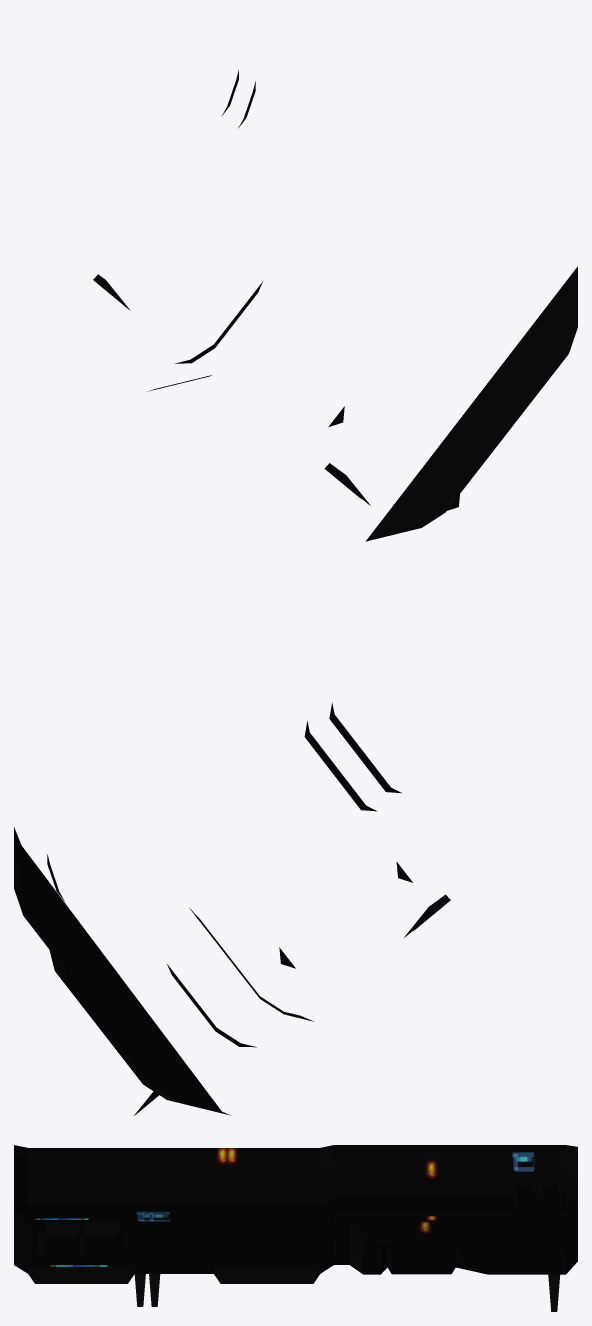
The model's file is hangar_hgn_explorer_02_enhanced_01_right.glb.
3 views of the same model, one above another, from view 1: azimuth 30°, elevation 25°; view 2: azimuth 150°, elevation 25°; view 3: azimuth 270°, elevation 25° (orthographic). The views are drawn at different scales.
Parts seen in each view (by area): view 1: hangar_explorer_02_m_LOD0; view 2: hangar_explorer_02_m_LOD0; view 3: hangar_explorer_02_m_LOD0.
Boxes of the visible parts, x1,y1,x2,y2 form: hangar_explorer_02_m_LOD0: [93, 70, 577, 541]; hangar_explorer_02_m_LOD0: [14, 702, 450, 1115]; hangar_explorer_02_m_LOD0: [14, 1145, 577, 1311].
Size of the model in its own units: 0.6041 by 0.6895 by 1.66.
1 material, 1 textured.
